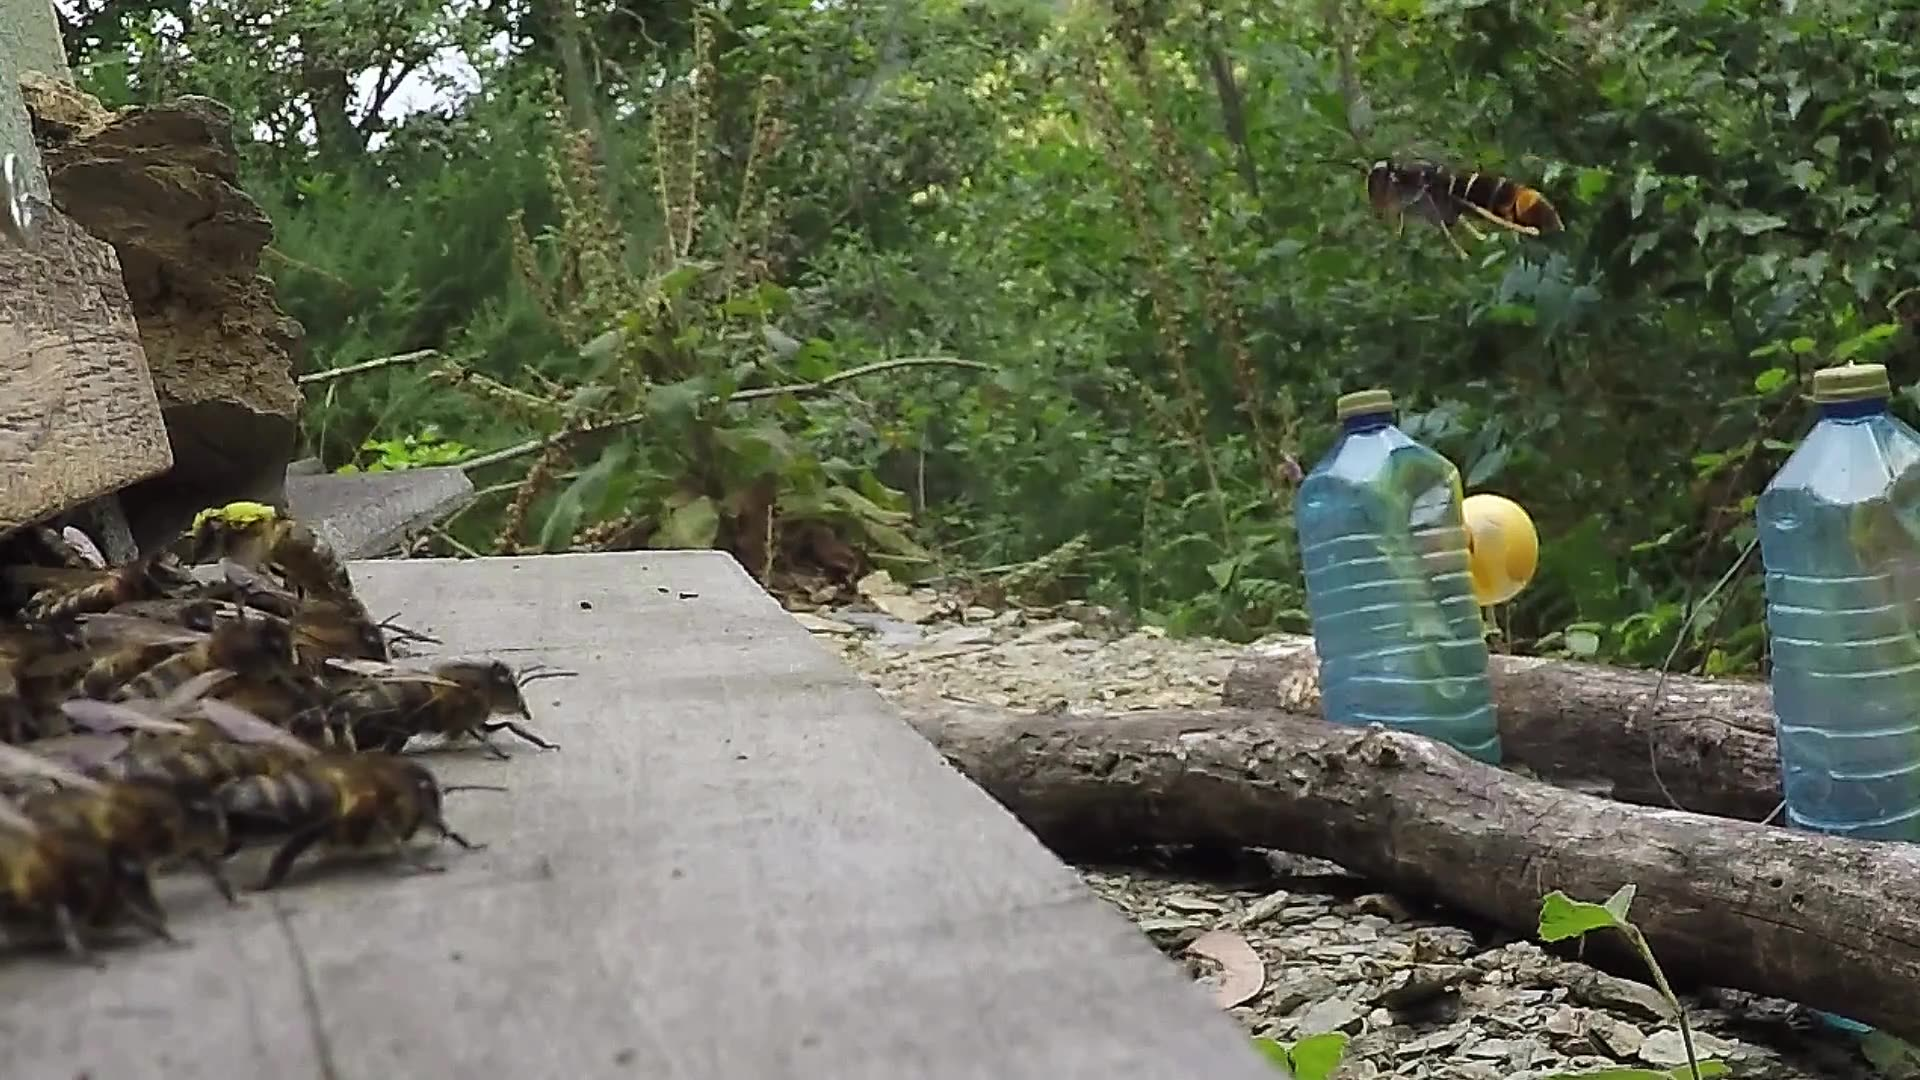bee: (1, 551, 465, 963), (320, 658, 531, 742), (189, 501, 364, 597)
hornet: (1361, 154, 1577, 253)
